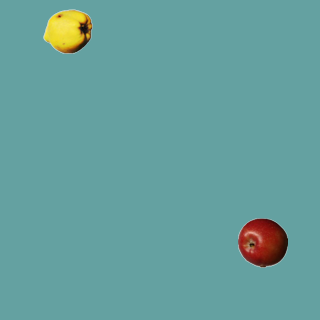Apple Braeburn: (237, 217, 287, 267)
Quince: (42, 6, 92, 56)
